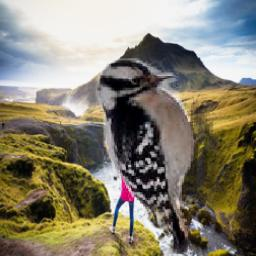Woodpecker: (97, 58, 219, 254)
